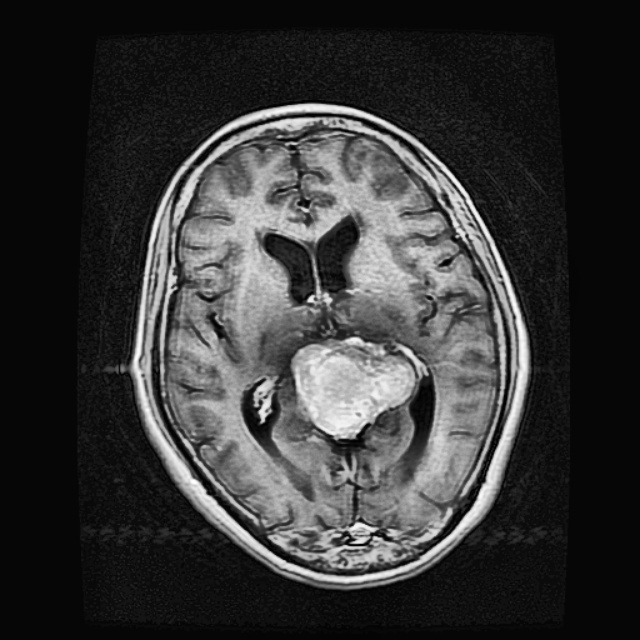Glioma: (292, 337, 415, 439)
